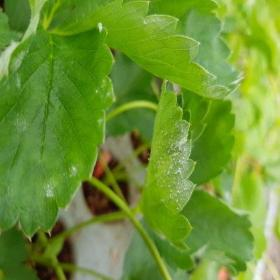Powdery Mildew Leaf: (0, 12, 115, 242), (137, 78, 197, 252)
